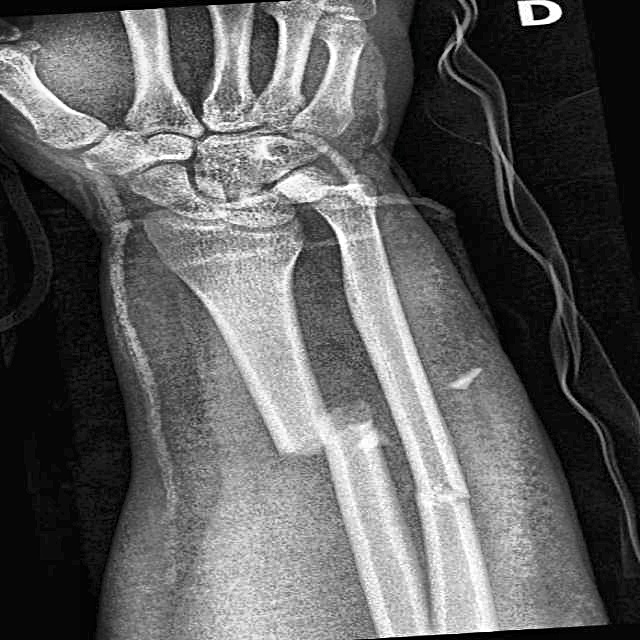Transverse: (247, 399, 390, 472)
Transverse Displaced: (399, 463, 485, 519)
